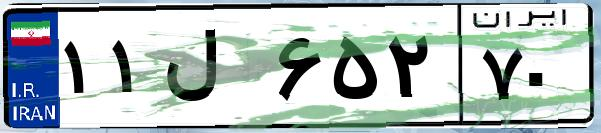0: (525, 38, 570, 115)
1: (57, 26, 110, 100), (110, 28, 158, 98)
2: (385, 28, 445, 110)
5: (330, 28, 385, 110)
6: (270, 28, 330, 110)
7: (475, 38, 525, 113)
ل: (158, 20, 270, 120)
